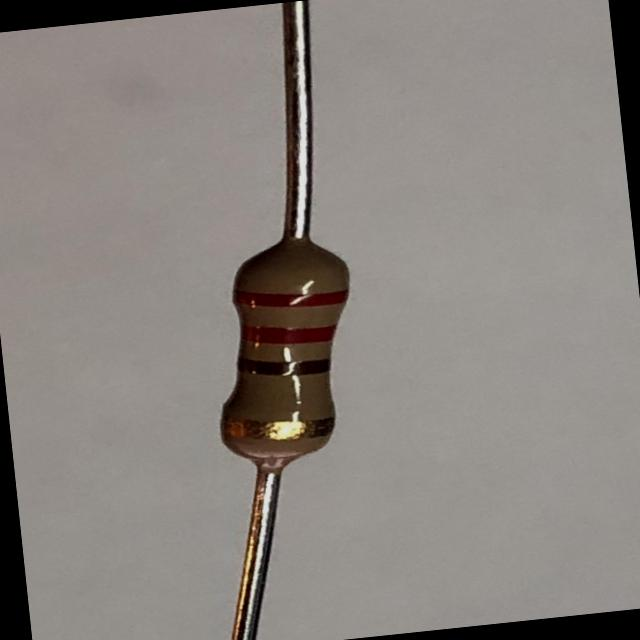Resistor: (221, 239, 348, 471)
brown: (237, 357, 335, 375)
gold: (218, 413, 335, 440)
red: (231, 289, 351, 306), (240, 323, 337, 342)
